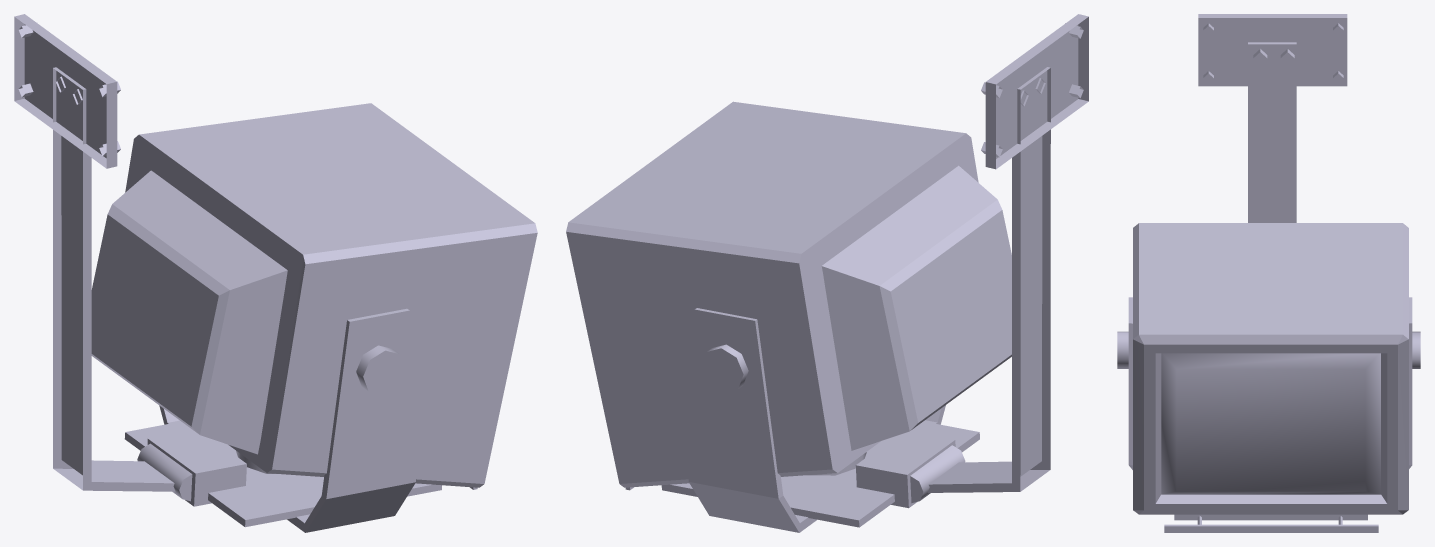
Rendered from monitorhang1.fbx.
3 renders of one model, left to right at view 1: azimuth 30°, elevation 25°; view 2: azimuth 150°, elevation 25°; view 3: azimuth 270°, elevation 25°, orthographic. The views are drawn at different scales.
Visible parts, largest first — view 1: controlroom_monitor001a_reference; view 2: controlroom_monitor001a_reference; view 3: controlroom_monitor001a_reference.
Boxes of the visible parts, x1=… form: controlroom_monitor001a_reference: x1=14, y1=14, x2=537, y2=532; controlroom_monitor001a_reference: x1=566, y1=14, x2=1088, y2=532; controlroom_monitor001a_reference: x1=1117, y1=14, x2=1420, y2=532.
Size of the model in its own units: 101 by 120 by 83.68.
